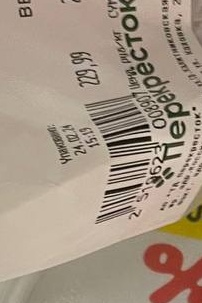1d: (84, 94, 153, 225)
